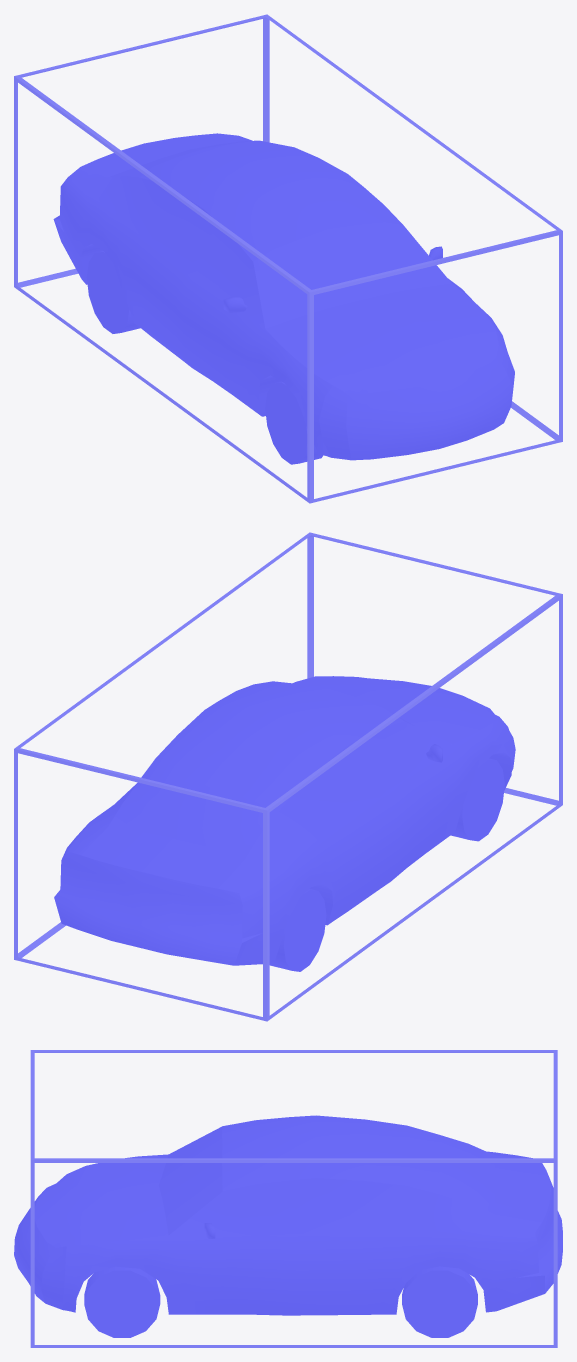
The model's file is carbox.glb.
3 views of the same model, one above another, from view 1: azimuth 30°, elevation 25°; view 2: azimuth 150°, elevation 25°; view 3: azimuth 270°, elevation 25° (orthographic). The views are drawn at different scales.
Visible parts, largest first — view 1: car, Cube_Line; view 2: car, Cube_Line; view 3: car, Cube_Line.
Part boxes in pixels (left/top/right/bottom): car: left=53, top=133, right=514, bottom=464; Cube_Line: left=14, top=14, right=562, bottom=503; car: left=54, top=676, right=515, bottom=971; Cube_Line: left=14, top=532, right=562, bottom=1021; car: left=14, top=1115, right=562, bottom=1337; Cube_Line: left=30, top=1050, right=557, bottom=1347.
Size of the model in its own units: 2.2 by 1.77 by 4.64.
